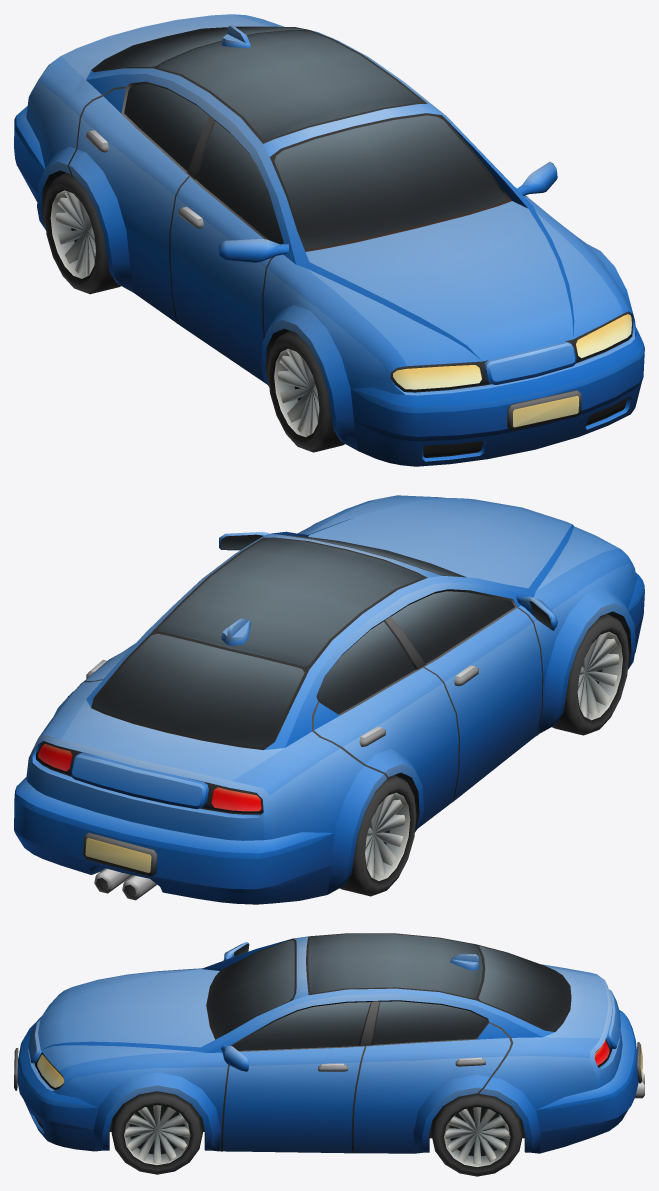
File: automobile.FBX
3 views of the same model, one above another, from view 1: azimuth 30°, elevation 25°; view 2: azimuth 150°, elevation 25°; view 3: azimuth 270°, elevation 25° (orthographic). The views are drawn at different scales.
Parts seen in each view (by area): view 1: Car_14A; view 2: Car_14A; view 3: Car_14A.
Part boxes in pixels (left/top/right/bottom): Car_14A: left=14, top=14, right=644, bottom=466; Car_14A: left=14, top=495, right=644, bottom=904; Car_14A: left=14, top=933, right=644, bottom=1176.
Bounding box in the file's own units: 497 × 321 × 1099.
